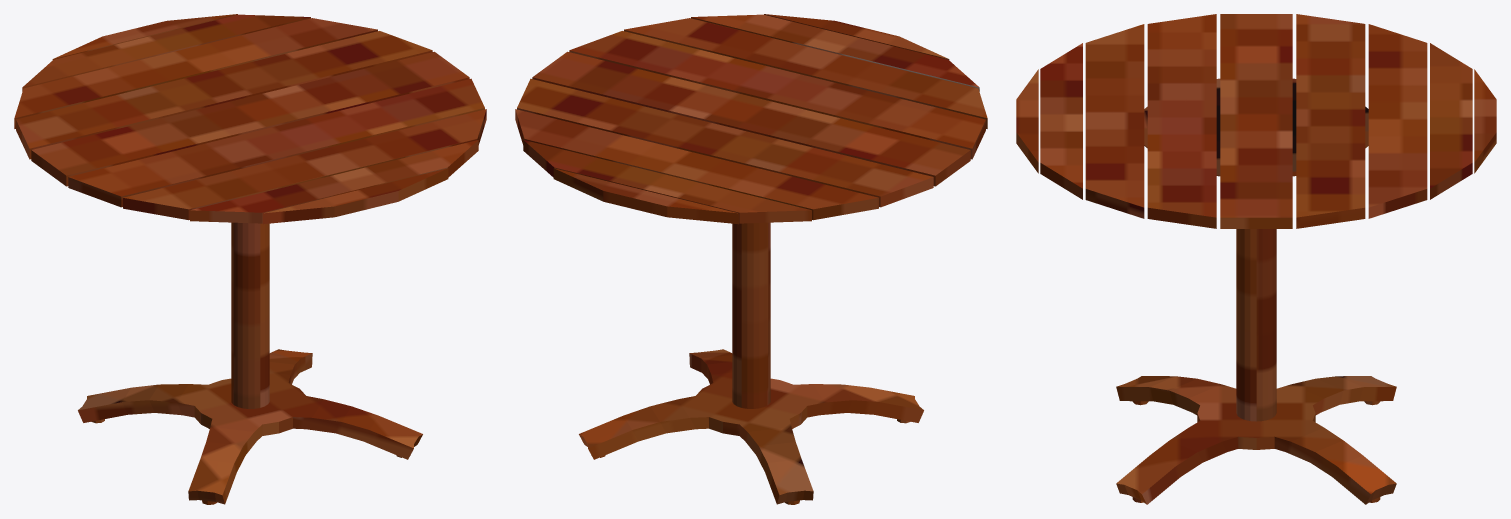
The model's file is Mesita.fbx.
3 views of the same model, side by side, from view 1: azimuth 30°, elevation 25°; view 2: azimuth 150°, elevation 25°; view 3: azimuth 270°, elevation 25° (orthographic). The views are drawn at different scales.
Parts seen in each view (by area): view 1: Chair.001; view 2: Chair.001; view 3: Chair.001.
Boxes of the visible parts, x1,y1,x2,y2 form: Chair.001: (14,14,486,504); Chair.001: (515,14,987,504); Chair.001: (1016,14,1496,504).
Bounding box in the file's own units: 94.67 × 72.61 × 94.44.
1 material, 1 textured.
